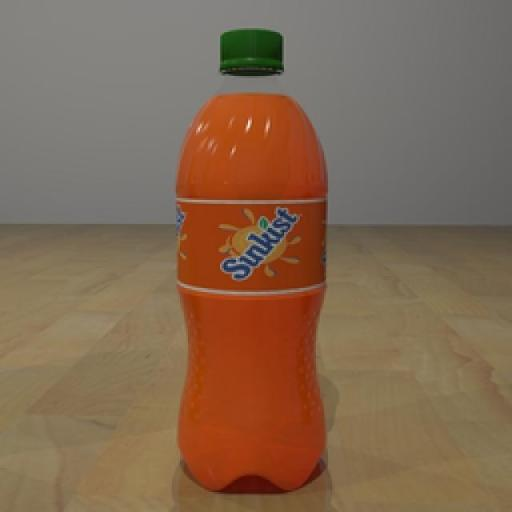plastic: (172, 26, 328, 492)
